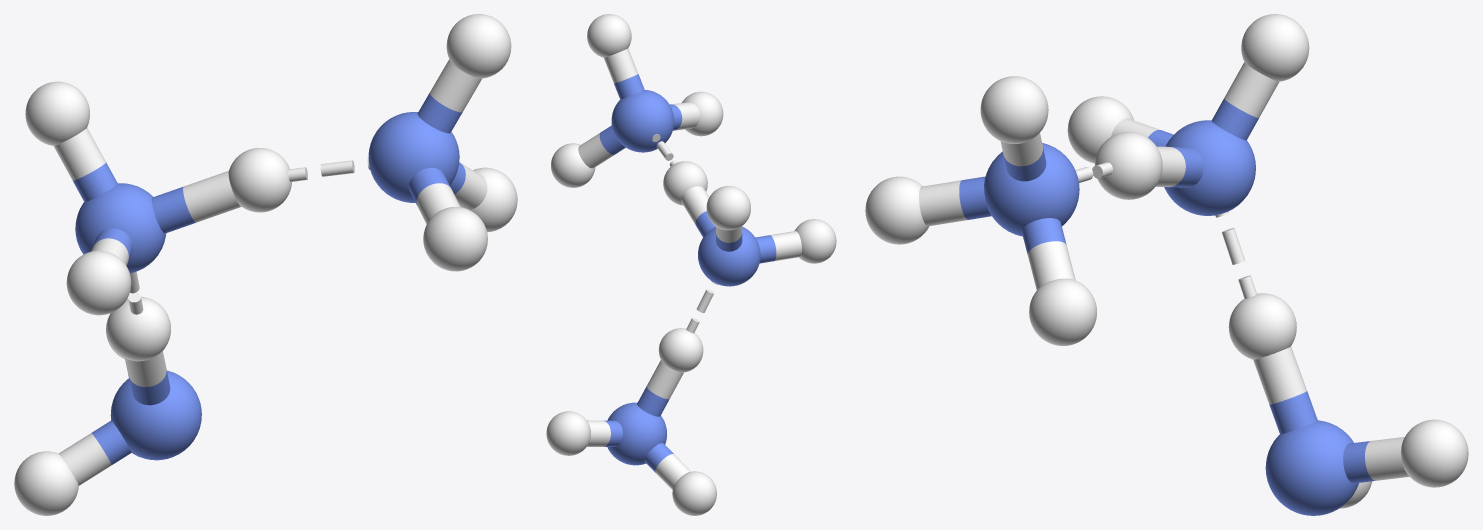
3 renders of one model, left to right at view 1: azimuth 30°, elevation 25°; view 2: azimuth 150°, elevation 25°; view 3: azimuth 270°, elevation 25°, orthographic. The views are drawn at different scales.
Visible parts, largest first — view 1: ammonia_0; view 2: ammonia_0; view 3: ammonia_0.
Boxes of the visible parts, left/top/right/bottom form: ammonia_0: left=14, top=14, right=517, bottom=515; ammonia_0: left=546, top=14, right=836, bottom=515; ammonia_0: left=865, top=14, right=1468, bottom=515.
Size of the model in its own units: 3.83 by 4.67 by 4.48.
